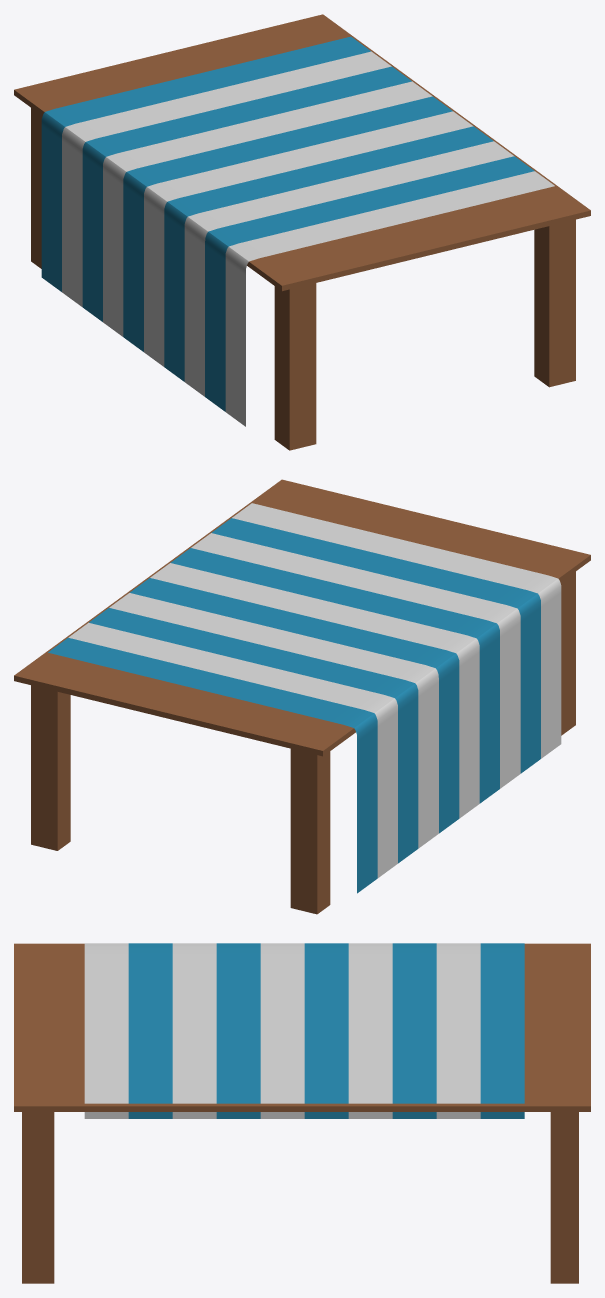
File: Farmer_stall_table.fbx
3 views of the same model, one above another, from view 1: azimuth 30°, elevation 25°; view 2: azimuth 150°, elevation 25°; view 3: azimuth 270°, elevation 25° (orthographic). The views are drawn at different scales.
Parts seen in each view (by area): view 1: Table_cloth1; view 2: Table_cloth1; view 3: Table_cloth1.
Part boxes in pixels (<box>): Table_cloth1: <box>14,14,590,450</box>; Table_cloth1: <box>14,479,590,914</box>; Table_cloth1: <box>14,943,590,1283</box>.
Size of the model in its own units: 11.6 by 6.08 by 17.24.
